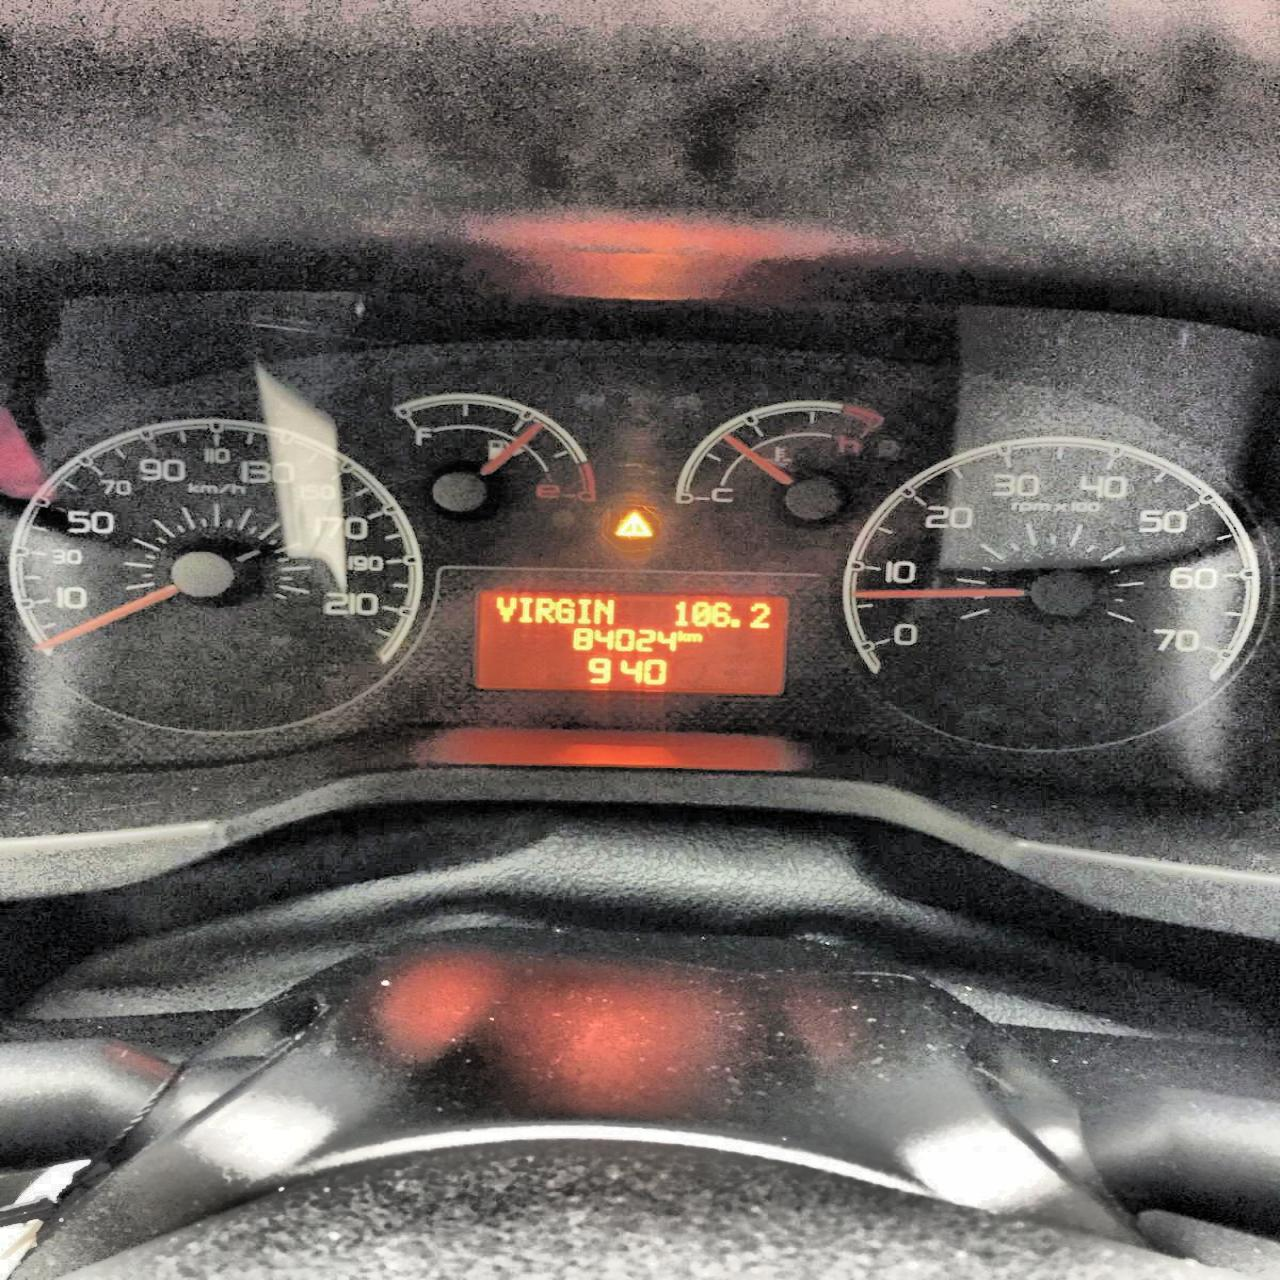-: (729, 615, 743, 628)
0: (644, 656, 669, 686), (612, 626, 635, 653), (688, 599, 710, 626)
2: (749, 600, 770, 629), (635, 627, 656, 654)
4: (618, 658, 644, 685), (655, 629, 676, 653), (593, 626, 613, 649)
6: (713, 600, 729, 629)
8: (572, 626, 592, 652)
9: (586, 655, 611, 686)
X: (593, 595, 617, 624), (493, 594, 516, 624), (535, 595, 554, 626), (556, 593, 573, 626), (576, 597, 591, 626), (517, 594, 532, 624), (687, 632, 703, 642), (676, 629, 687, 642)
odometer: (474, 586, 787, 696)
